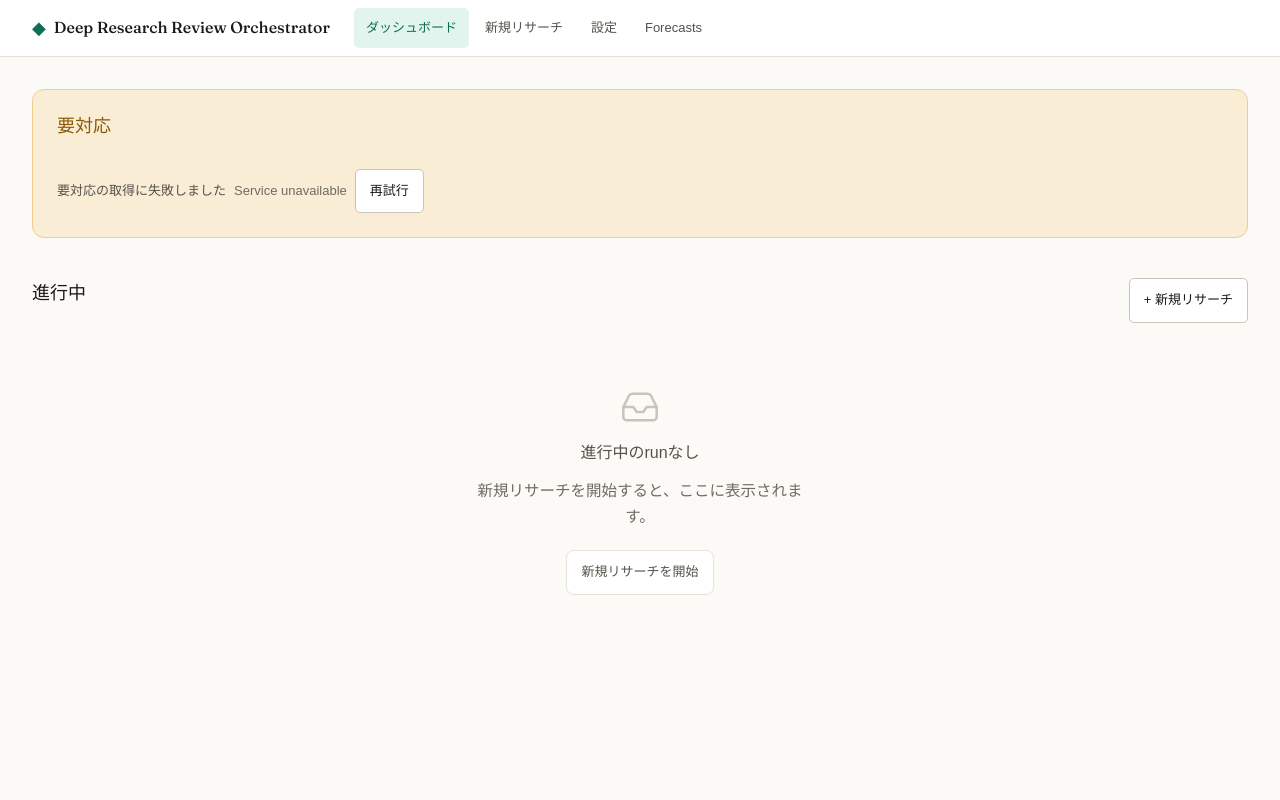
Test: Dashboard (SCR-2) › shows a retryable error instead of an empty queue when human-review fetch fails
Check: the message "要対応の取得に失敗しました Service unavailable 再試行" is shown, box [57,169,424,214]
Check: the text "要対応なし" is not shown
Click the button "再試行" at (389, 191), box [355,169,424,214]
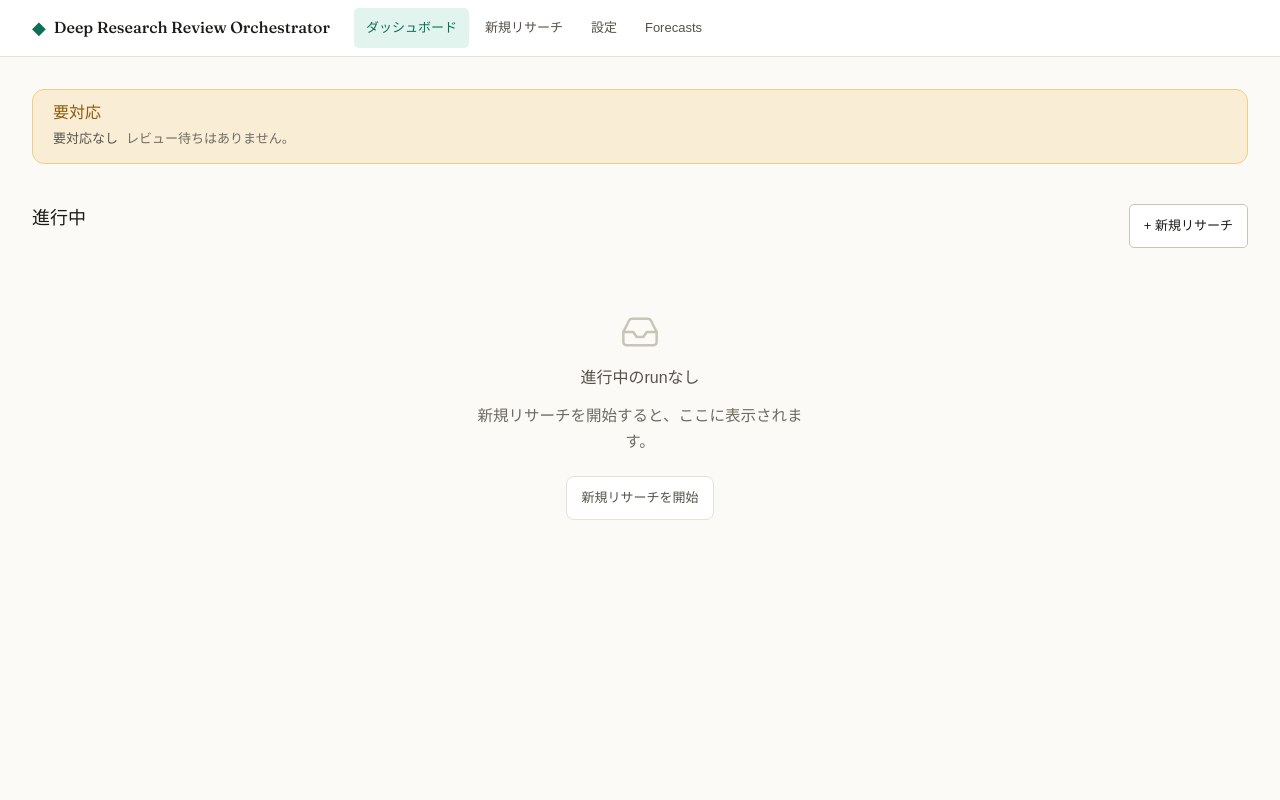
Check: the text "要対応なし" is shown, box [53,128,118,150]
